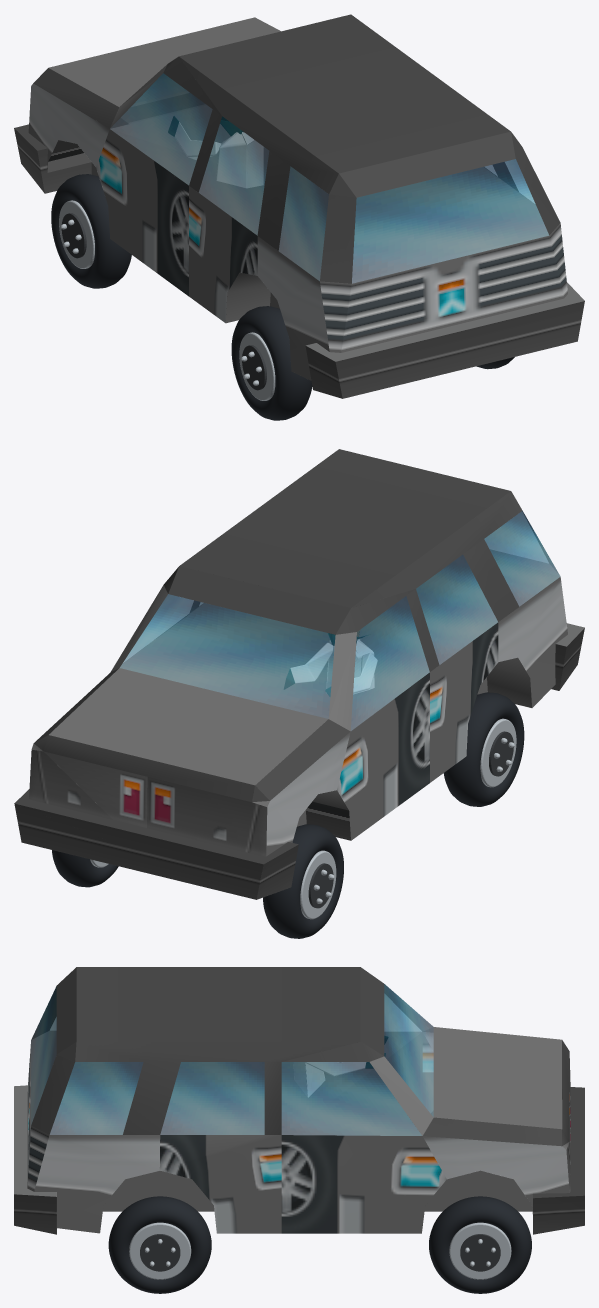
File: car-suva.glb
3 views of the same model, one above another, from view 1: azimuth 30°, elevation 25°; view 2: azimuth 150°, elevation 25°; view 3: azimuth 270°, elevation 25° (orthographic). The views are drawn at different scales.
Visible parts, largest first — view 1: SUVAShape, windShape.007, suva wheel assembly.001, suva wheel assembly.002, SUVAShape.001; view 2: SUVAShape, windShape.007, suva wheel assembly.001, suva wheel assembly.002, SUVAShape.001, suva wheel assembly.003; view 3: SUVAShape, windShape.007, suva wheel assembly, suva wheel assembly.003, SUVAShape.001.
Part boxes in pixels (x1,y1,x2,y2): SUVAShape: [14, 14, 584, 398]; windShape.007: [110, 73, 548, 283]; suva wheel assembly.001: [231, 306, 312, 420]; suva wheel assembly.002: [51, 174, 131, 288]; SUVAShape.001: [168, 116, 263, 187]; SUVAShape: [14, 449, 584, 899]; windShape.007: [120, 511, 560, 730]; suva wheel assembly.001: [443, 692, 524, 806]; suva wheel assembly.002: [263, 824, 343, 938]; SUVAShape.001: [284, 630, 377, 696]; suva wheel assembly.003: [52, 850, 118, 887]; SUVAShape: [14, 967, 584, 1234]; windShape.007: [31, 984, 433, 1135]; suva wheel assembly: [108, 1196, 211, 1293]; suva wheel assembly.003: [429, 1196, 531, 1293]; SUVAShape.001: [294, 1036, 388, 1097].
Size of the model in its own units: 2.4 by 2.39 by 5.12.
6 materials, 3 textured.
